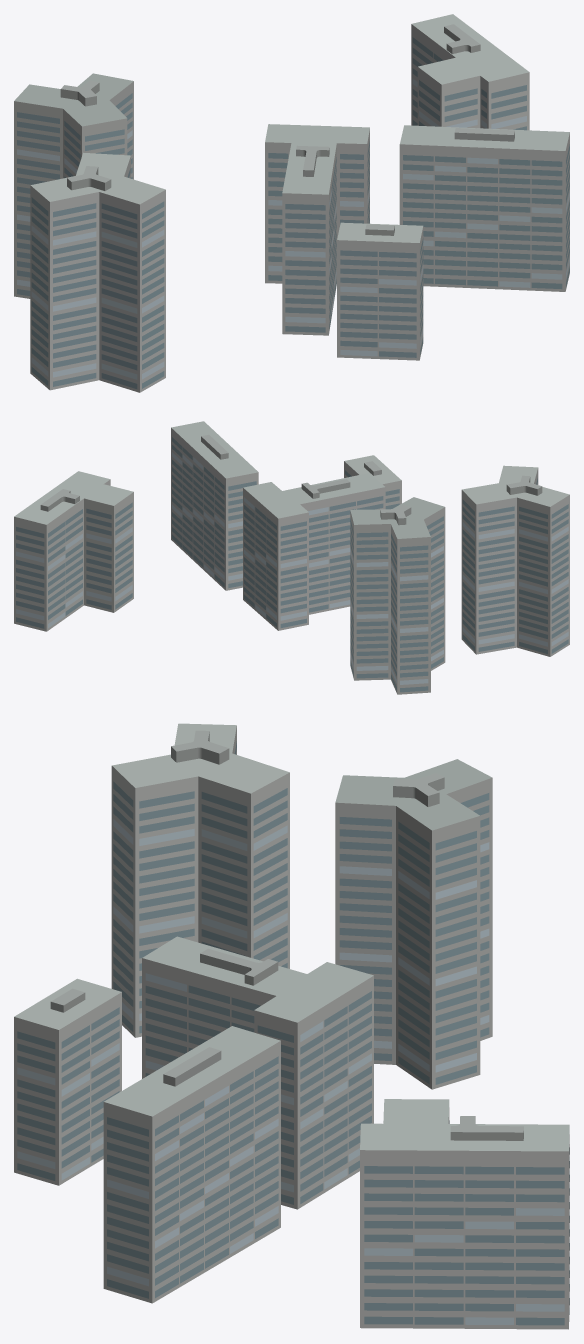
Rendered from apt-a15728010.glb.
The picture shows the model from 3 angles, top to bottom: view 1: azimuth 30°, elevation 25°; view 2: azimuth 150°, elevation 25°; view 3: azimuth 270°, elevation 25°; orthographic projection. The views are drawn at different scales.
Visible parts, largest first — view 1: apt-a15728010; view 2: apt-a15728010; view 3: apt-a15728010.
Part boxes in pixels (box(x1,y1,x2,y2)): apt-a15728010: box(14, 14, 569, 392); apt-a15728010: box(14, 421, 569, 694); apt-a15728010: box(14, 723, 569, 1329).
Bounding box in the file's own units: 164 × 58 × 108.
